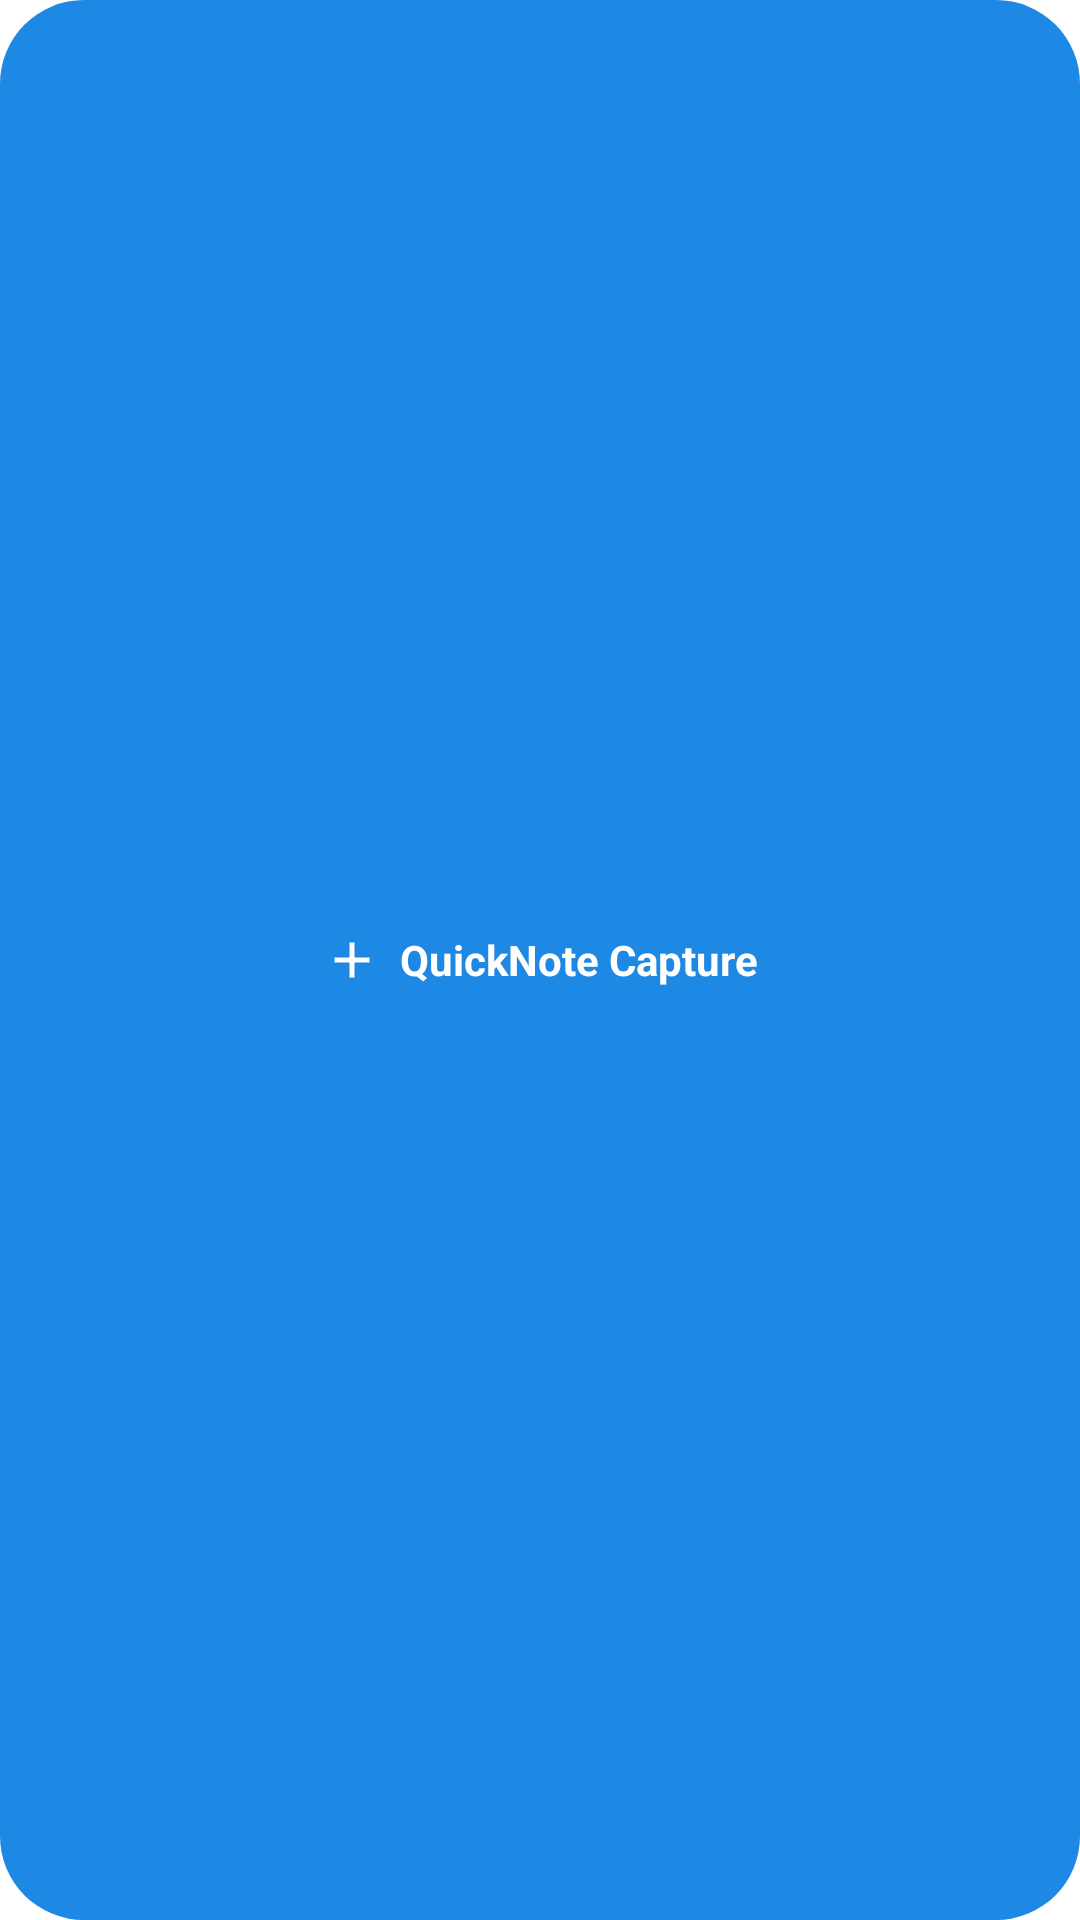

Icon bounding boxes for this 1080px×1920px phone screenshot, format (x1, y1, x2, y2):
add: (334, 942, 370, 978)
